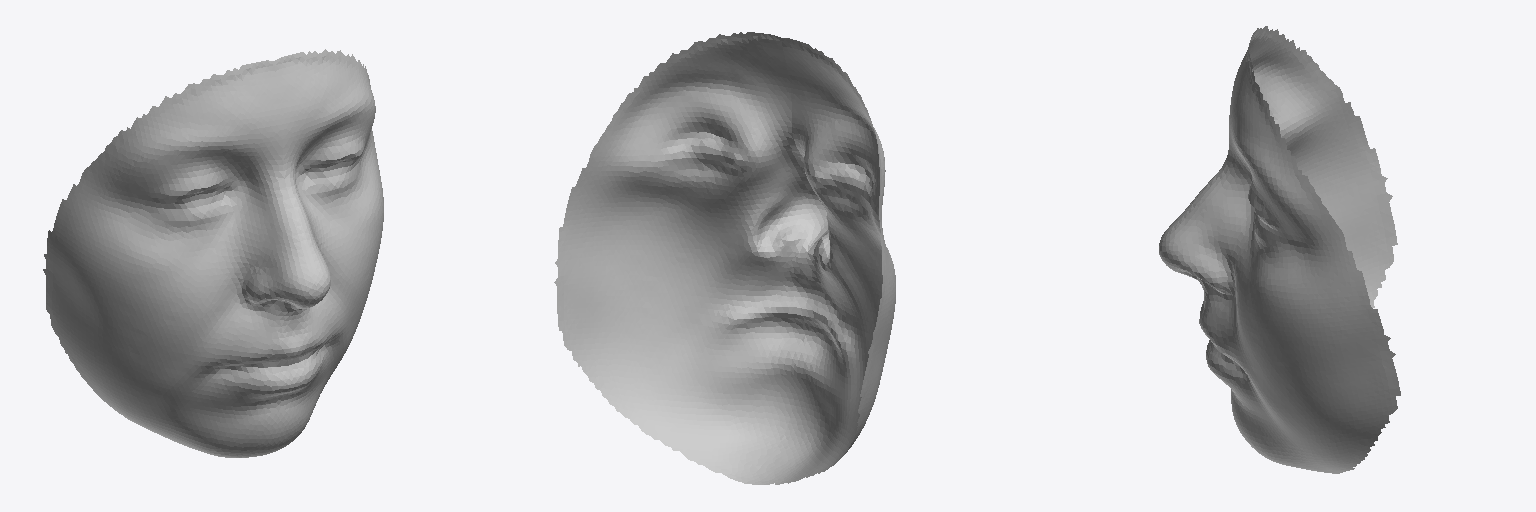
File: SIMPOP_43.obj
The picture shows the model from 3 angles: view 1: azimuth 30°, elevation 25°; view 2: azimuth 150°, elevation 25°; view 3: azimuth 270°, elevation 25°; orthographic projection.
Visible parts, largest first — view 1: SIMPOP_43; view 2: SIMPOP_43; view 3: SIMPOP_43.
Boxes of the visible parts, x1=… form: SIMPOP_43: x1=43, y1=49, x2=383, y2=457; SIMPOP_43: x1=554, y1=32, x2=895, y2=484; SIMPOP_43: x1=1159, y1=26, x2=1400, y2=473.
Bounding box in the file's own units: 140 × 174 × 92.07.